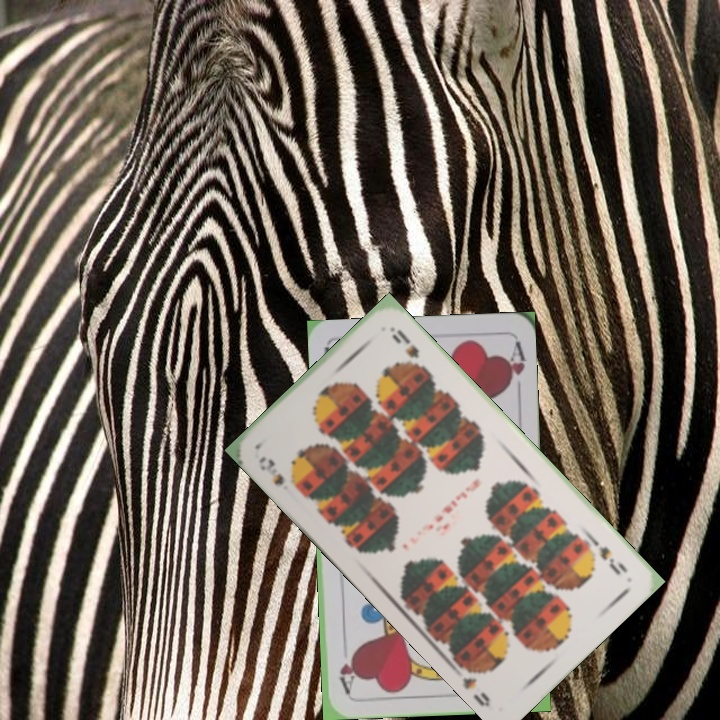S9: (254, 451, 303, 494), (594, 542, 630, 578)
